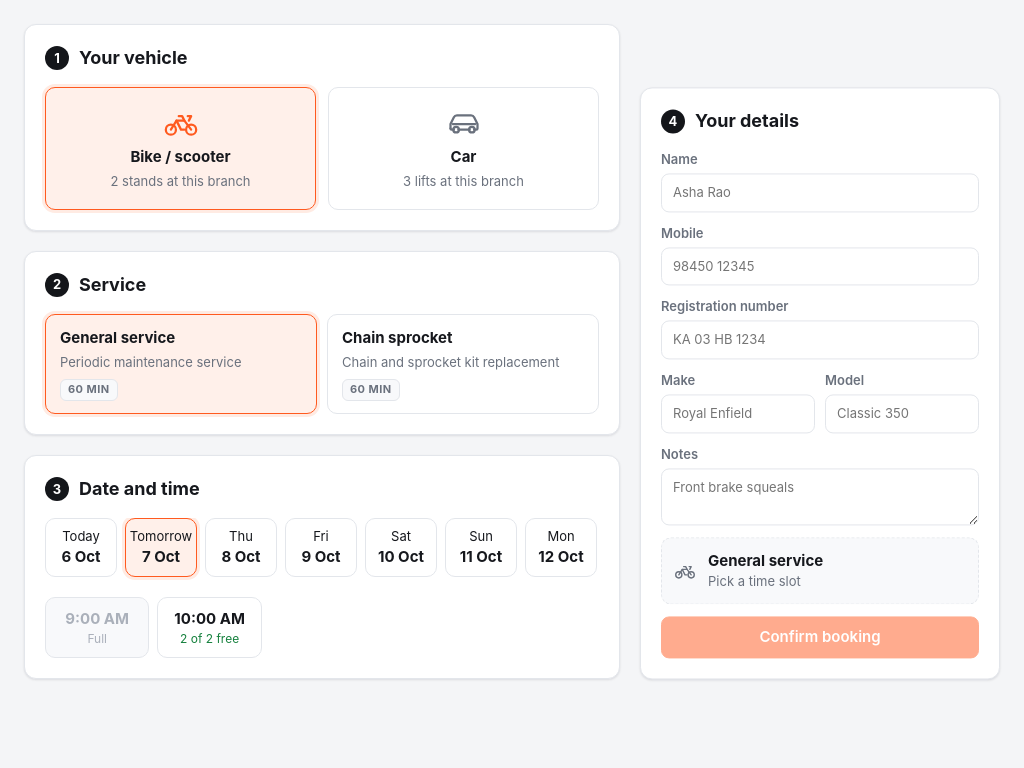
Scenario: BookPage › shows the server error and refreshes slots when the slot was taken meanwhile
Type "Test Rider" into the field labelled "Name".
click(820, 193); type("Test Rider")  # box left=661, top=173, right=979, bottom=212
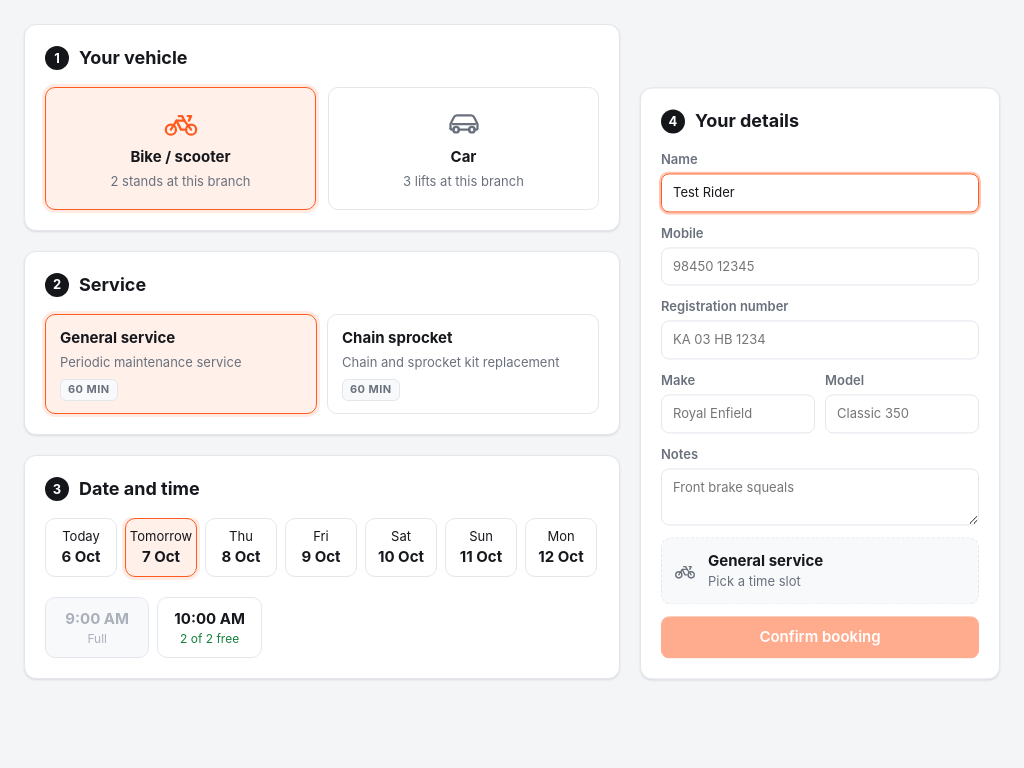
Type "98450 11111" into the field labelled "Mobile".
click(820, 266); type("98450 11111")  # box left=661, top=247, right=979, bottom=286
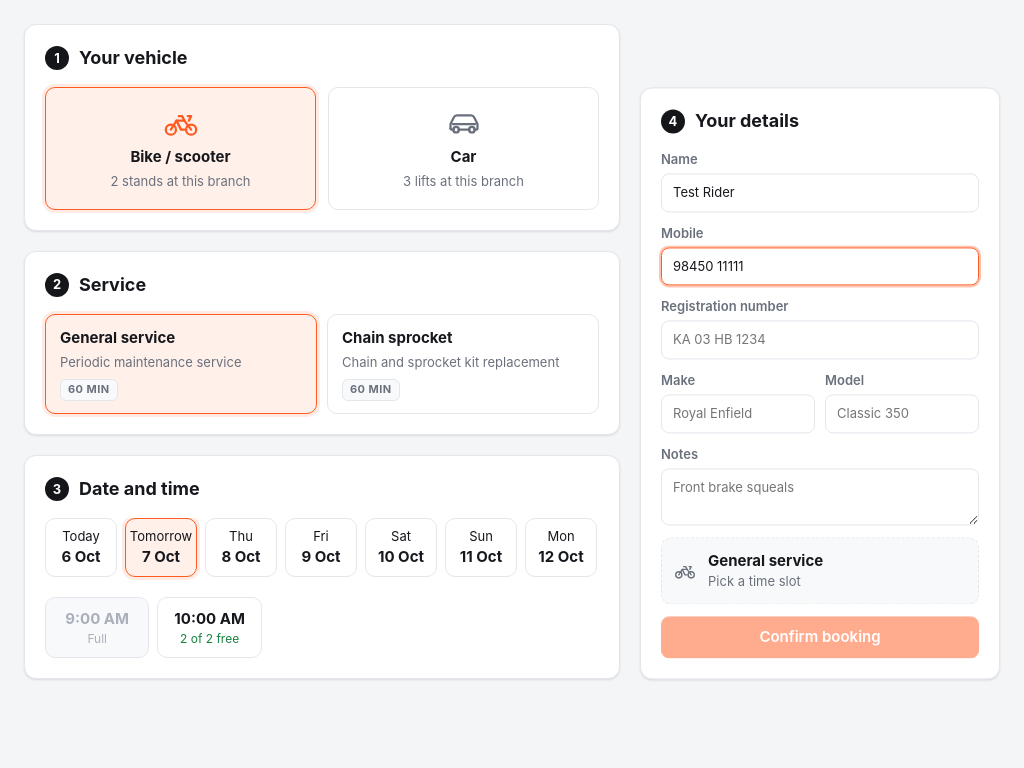
Type "KA05TR4242" into the field labelled "Registration number".
click(820, 340); type("KA05TR4242")  # box left=661, top=321, right=979, bottom=360
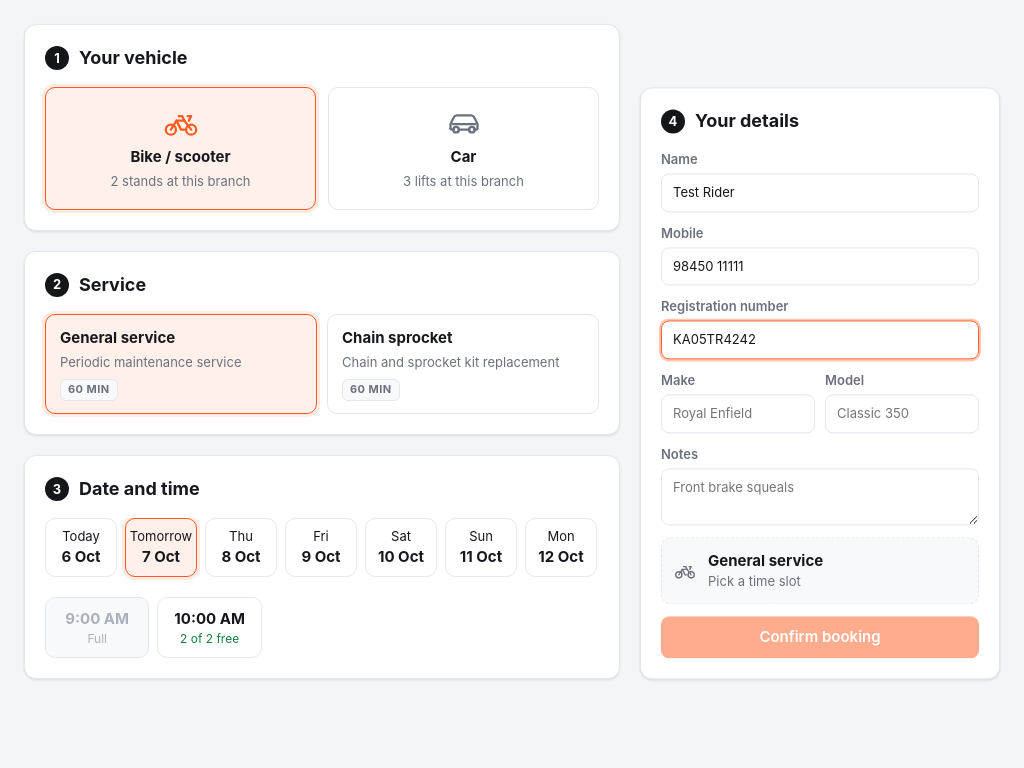
Click the button "10:00 AM 2 of 2 free".
click(210, 628)  # box left=157, top=597, right=262, bottom=658
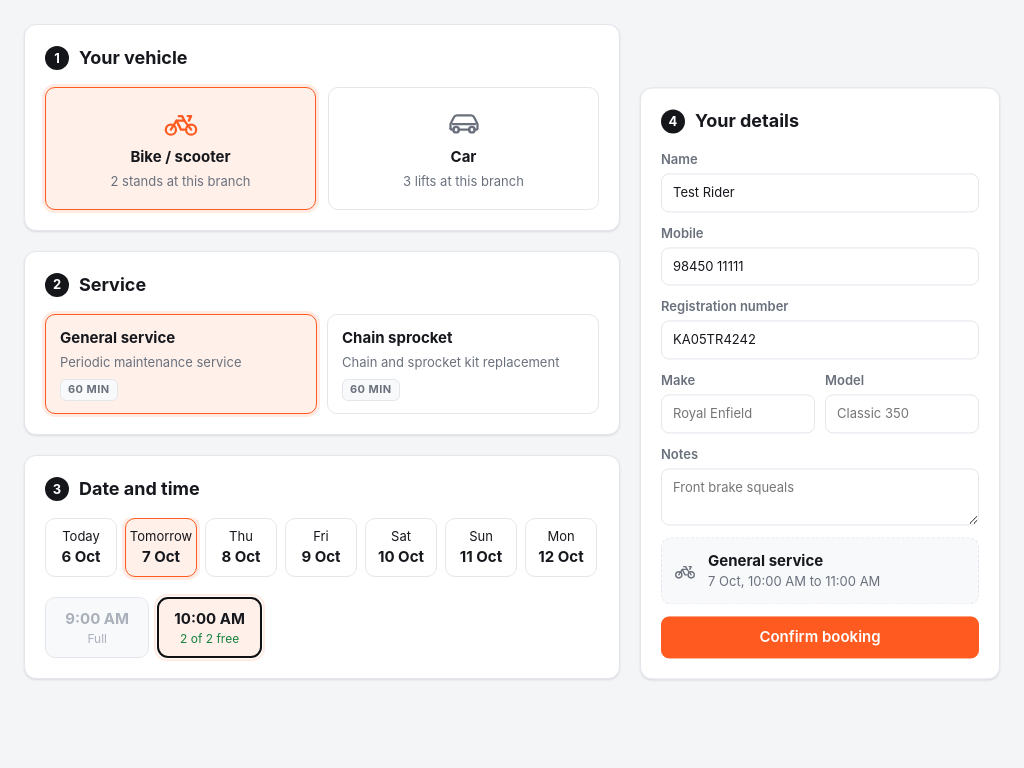
Click the button "Confirm booking".
click(820, 637)  # box left=661, top=616, right=979, bottom=658
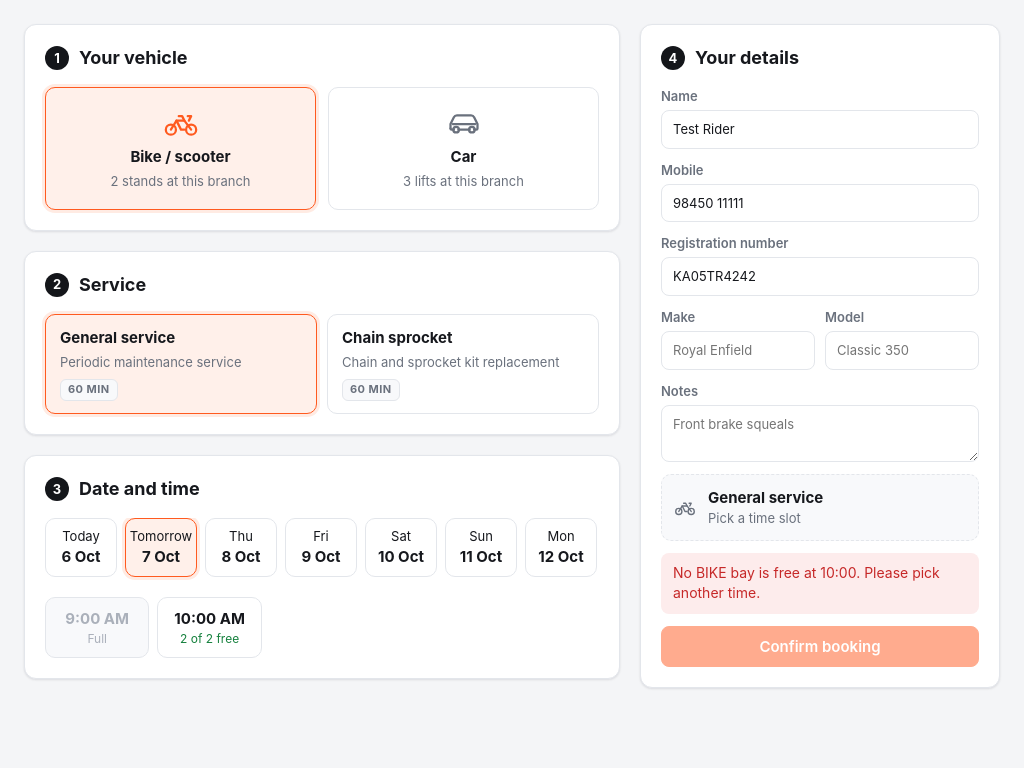
Expected: the text "No BIKE bay is free at 10:00. Please pick another time." is shown, left=661, top=553, right=979, bottom=614
